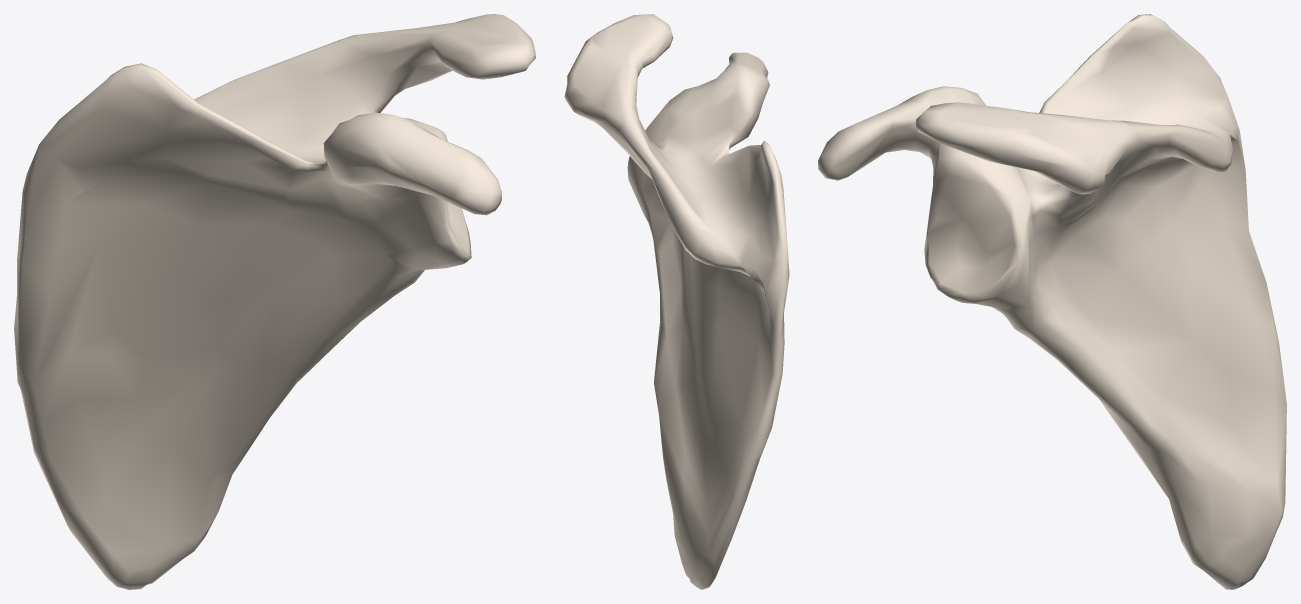
File: left_scapula.glb
3 views of the same model, side by side, from view 1: azimuth 30°, elevation 25°; view 2: azimuth 150°, elevation 25°; view 3: azimuth 270°, elevation 25° (orthographic). The views are drawn at different scales.
Visible parts, largest first — view 1: Scapula.r.; view 2: Scapula.r.; view 3: Scapula.r..
Boxes of the visible parts, bbox=[...] form: Scapula.r.: bbox=[14, 14, 535, 589]; Scapula.r.: bbox=[564, 14, 789, 589]; Scapula.r.: bbox=[818, 14, 1286, 589].
Bounding box in the file's own units: 0.0645 × 0.0973 × 0.0707.
